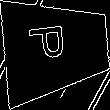P_E: (34, 28, 79, 69)
